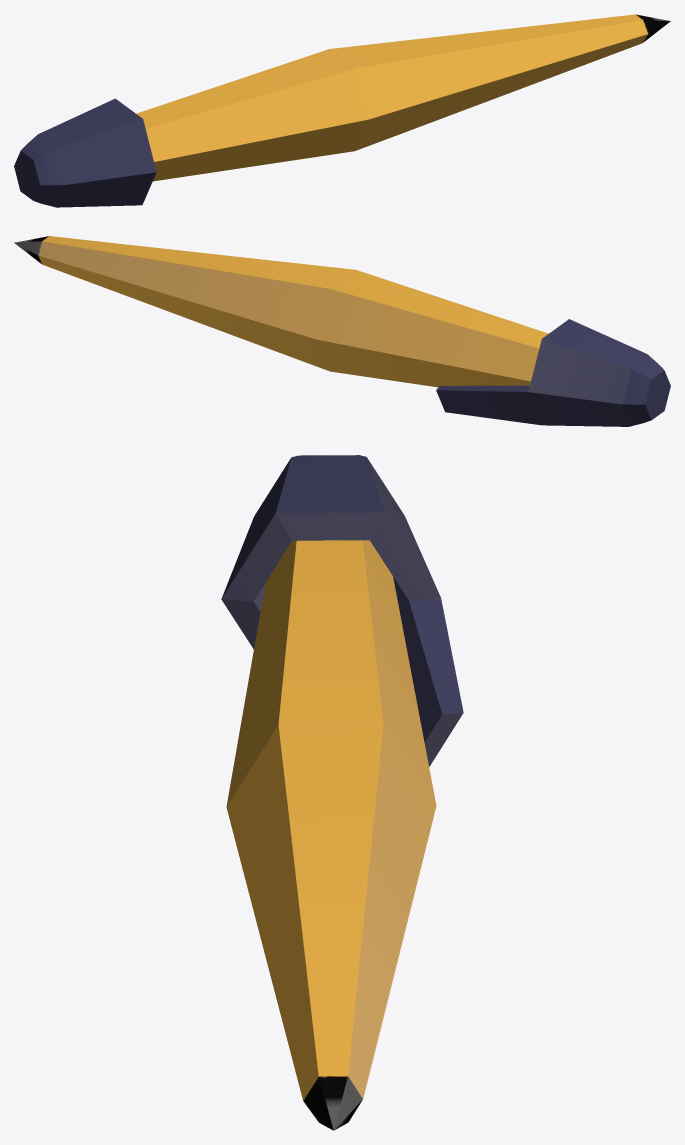
File: Pencil_Art.fbx
3 views of the same model, one above another, from view 1: azimuth 30°, elevation 25°; view 2: azimuth 150°, elevation 25°; view 3: azimuth 270°, elevation 25° (orthographic). The views are drawn at different scales.
Visible parts, largest first — view 1: Pencil; view 2: Pencil; view 3: Pencil.
Part boxes in pixels (bbox=[...]): Pencil: bbox=[14, 14, 670, 207]; Pencil: bbox=[14, 236, 670, 426]; Pencil: bbox=[221, 455, 463, 1130].
Bounding box in the file's own units: 31.69 × 4.08 × 5.17.
